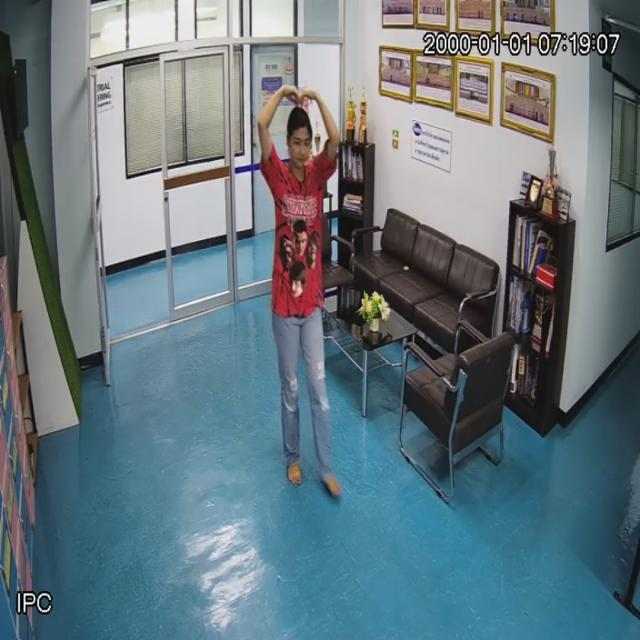normal: (260, 89, 336, 489)
